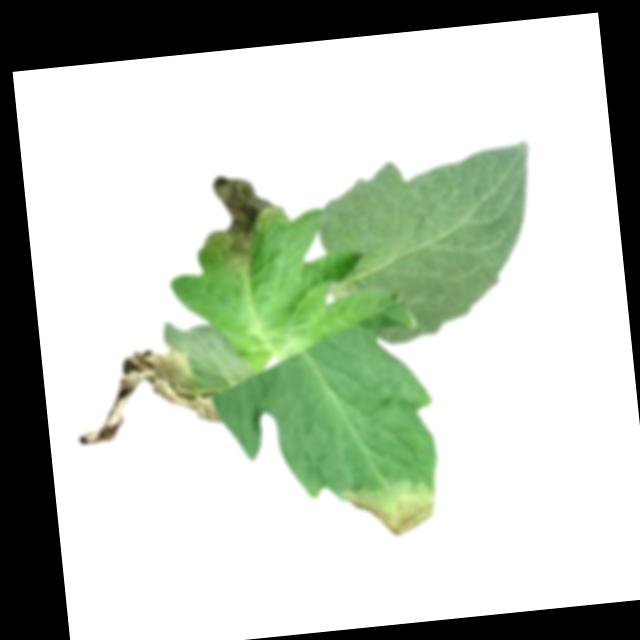Late_blight: (69, 340, 227, 445), (199, 168, 294, 275), (338, 473, 446, 541)
